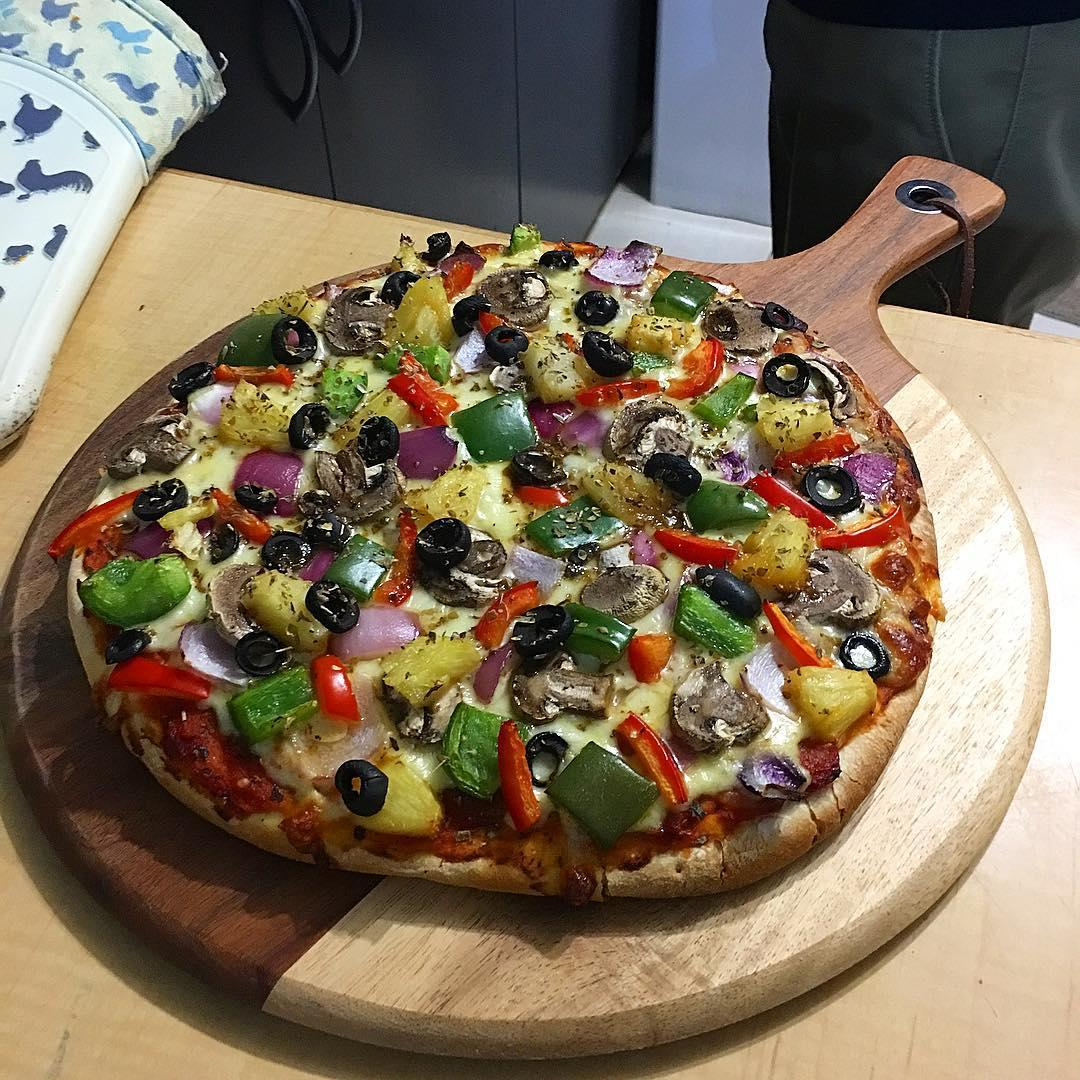Mushroom: (668, 662, 763, 745), (510, 663, 615, 721), (310, 453, 402, 519), (600, 400, 693, 463), (800, 554, 881, 621), (426, 541, 507, 607), (106, 415, 188, 478), (325, 285, 391, 354), (395, 679, 464, 744), (480, 268, 552, 328), (581, 562, 661, 614), (206, 567, 257, 638), (704, 301, 774, 352), (808, 357, 859, 418)
Olives: (693, 569, 762, 622), (334, 760, 388, 816), (415, 517, 473, 568), (514, 605, 573, 652), (306, 581, 358, 633), (803, 466, 860, 513), (838, 633, 891, 680), (582, 330, 634, 376), (132, 478, 186, 522), (271, 315, 319, 364), (643, 455, 698, 497), (512, 447, 566, 489), (526, 732, 567, 787), (288, 402, 330, 453), (357, 417, 402, 462), (236, 634, 284, 675), (763, 354, 808, 397), (261, 532, 310, 569), (169, 365, 214, 400), (485, 328, 530, 362), (575, 290, 618, 325), (302, 520, 351, 550), (380, 271, 419, 306), (236, 485, 278, 512), (108, 632, 150, 659), (209, 524, 238, 563), (452, 297, 480, 336), (300, 490, 339, 515), (419, 236, 451, 264), (764, 301, 794, 329), (538, 249, 576, 269)
Onion: (179, 621, 253, 687), (239, 449, 305, 519), (337, 606, 420, 660), (584, 235, 660, 289), (529, 398, 600, 451), (397, 427, 457, 481), (841, 455, 901, 501)
Peppers: (46, 485, 149, 559), (85, 560, 192, 626), (614, 713, 688, 805), (227, 665, 311, 744), (745, 470, 837, 532), (763, 601, 837, 674), (496, 721, 543, 828), (111, 659, 215, 700), (201, 488, 271, 545), (478, 585, 538, 649), (817, 504, 902, 549), (393, 359, 453, 421), (375, 512, 415, 604), (310, 653, 361, 723), (656, 527, 738, 569), (666, 339, 722, 400), (776, 429, 856, 470), (213, 364, 302, 388), (630, 635, 677, 679), (577, 380, 659, 400), (441, 262, 473, 297)
Pineapple: (358, 744, 443, 839), (783, 663, 878, 739), (728, 509, 812, 588), (381, 633, 483, 696), (244, 574, 330, 647), (576, 464, 674, 526), (411, 461, 485, 527), (218, 382, 291, 448), (330, 388, 406, 446), (752, 396, 834, 444), (397, 281, 450, 352), (524, 337, 583, 397), (629, 313, 692, 355), (248, 287, 319, 315)
Pizza: (60, 235, 943, 907)
